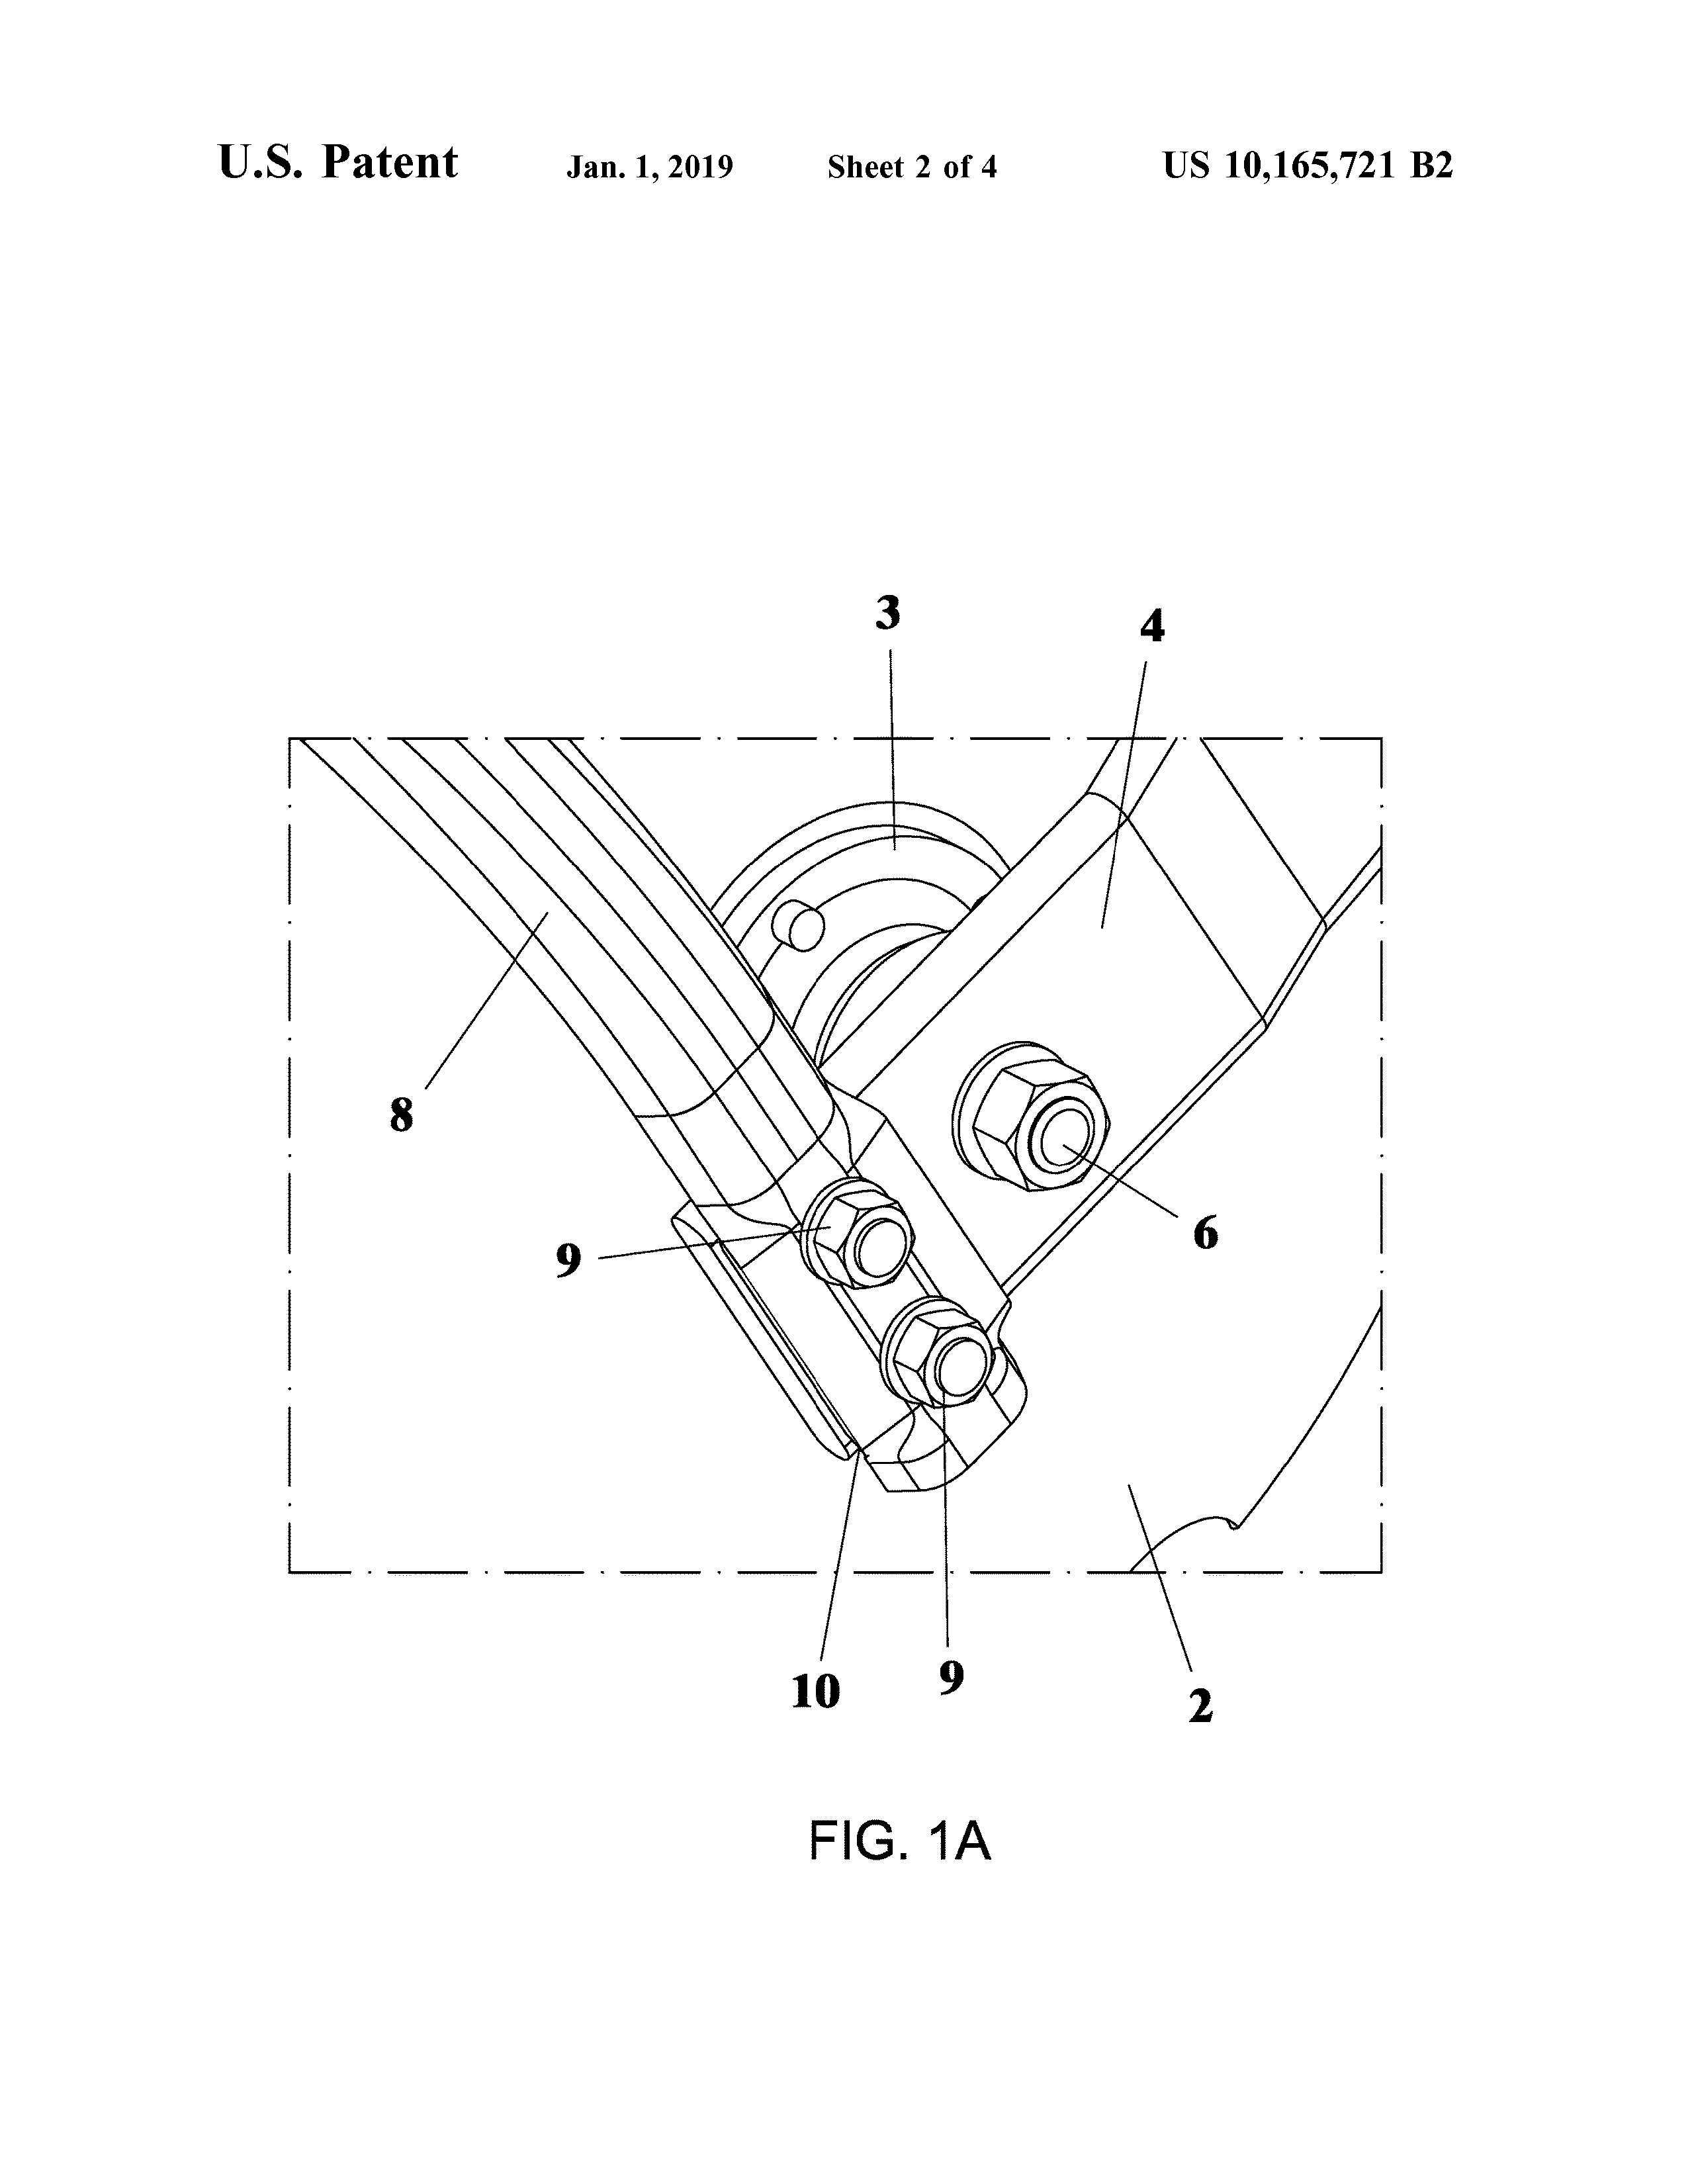patent image: (226, 558, 1452, 1873)
